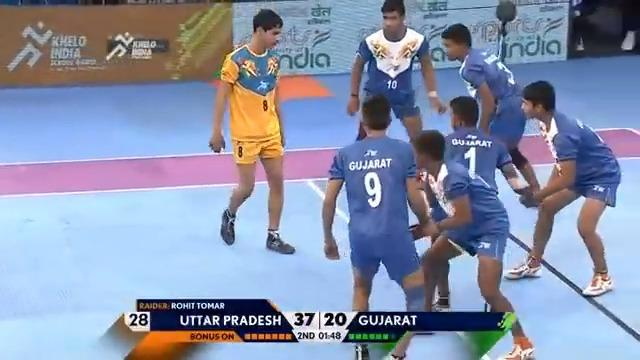Player: (410, 95, 539, 359), (321, 93, 435, 358), (503, 79, 622, 296), (440, 22, 541, 196), (346, 0, 447, 145)
Raider: (208, 8, 296, 254)
referee: (568, 0, 598, 52)
